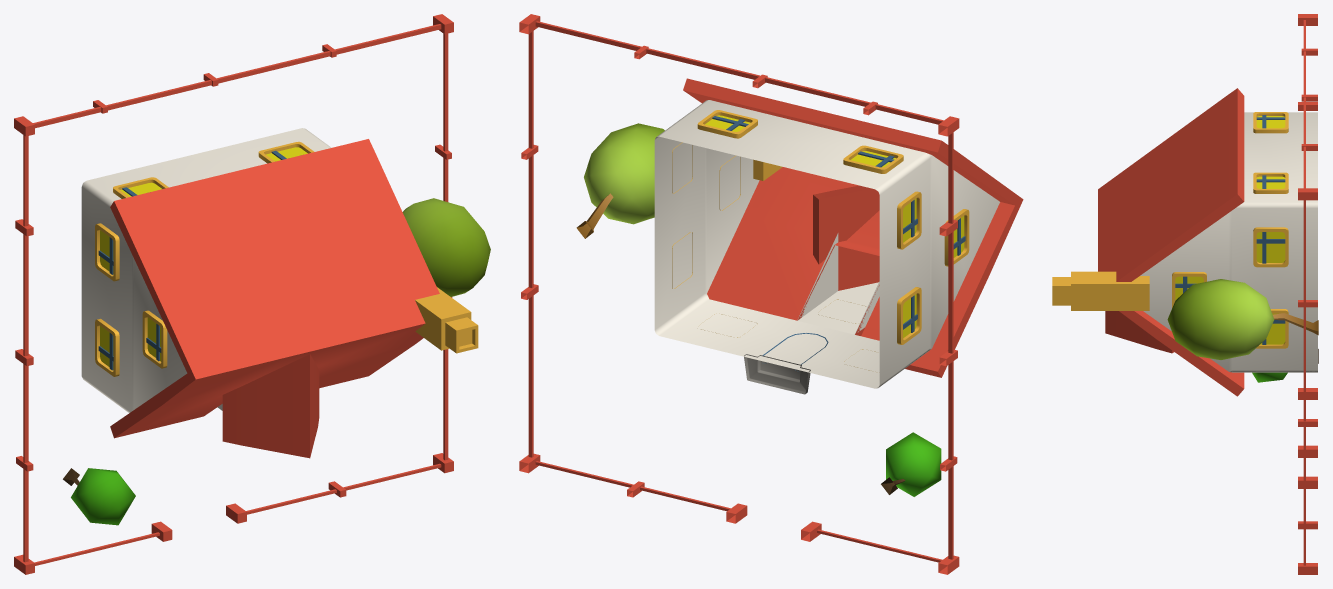
The model's file is Simple_House_01_01.fbx.
The picture shows the model from 3 angles, left to right: view 1: azimuth 30°, elevation 25°; view 2: azimuth 150°, elevation 25°; view 3: azimuth 270°, elevation 25°; orthographic projection. The views are drawn at different scales.
Parts seen in each view (by area): view 1: Simple_House_01_01; view 2: Simple_House_01_01; view 3: Simple_House_01_01.
Boxes of the visible parts, x1,y1,x2,y2 form: Simple_House_01_01: [14, 14, 490, 574]; Simple_House_01_01: [519, 14, 1023, 574]; Simple_House_01_01: [1052, 14, 1318, 574].
Bounding box in the file's own units: 197 × 197 × 124.
